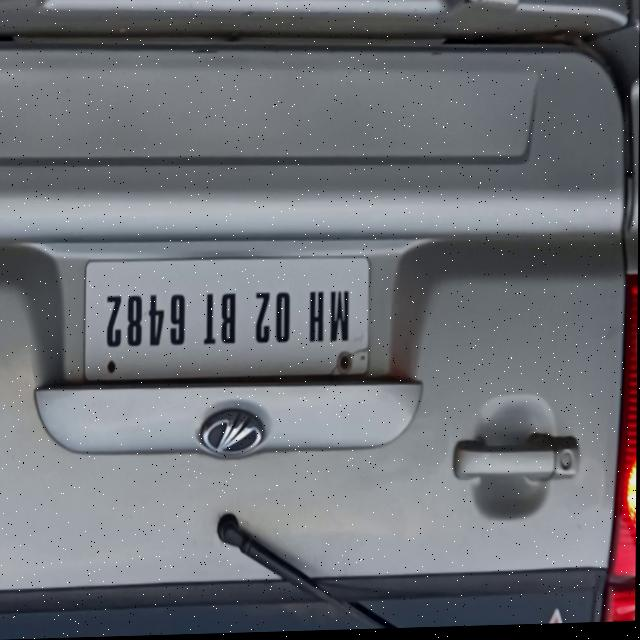plate: (84, 254, 372, 387)
